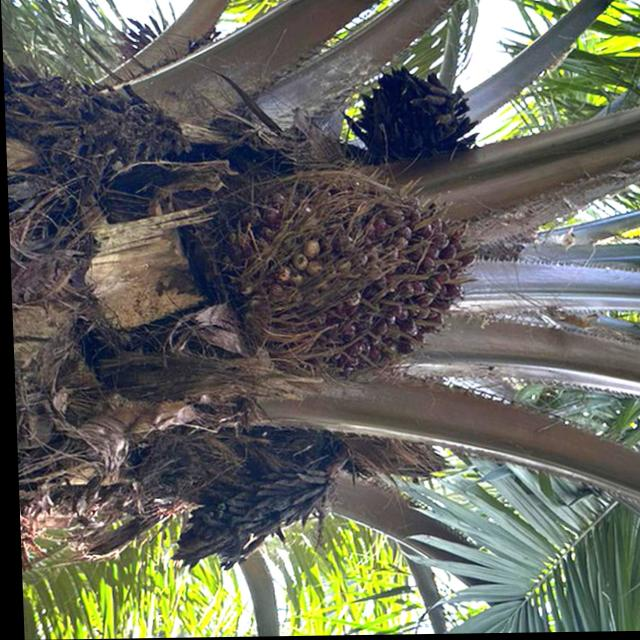ripe: (206, 150, 493, 400)
